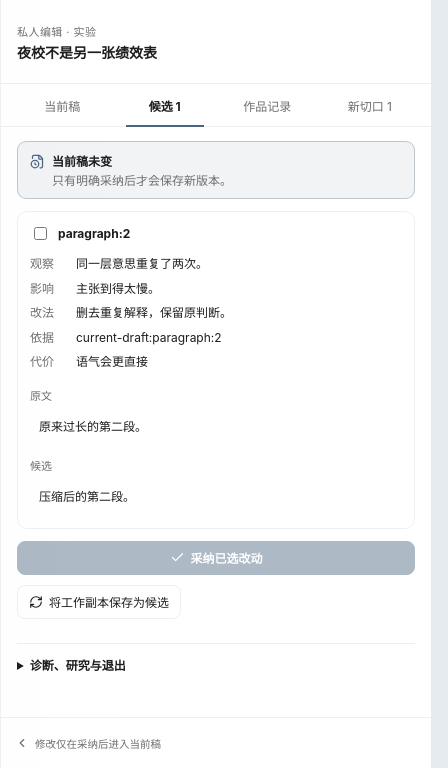
Test: PrivateEditorPanel › develops an accepted angle through the existing chat without changing the current draft
The width and height of the screenshot is (448, 768).
Check: the text "当前稿未变" is shown, box [52,154,112,169]
Click the button "新切口 1" at (370, 105), box [318,84,421,126]
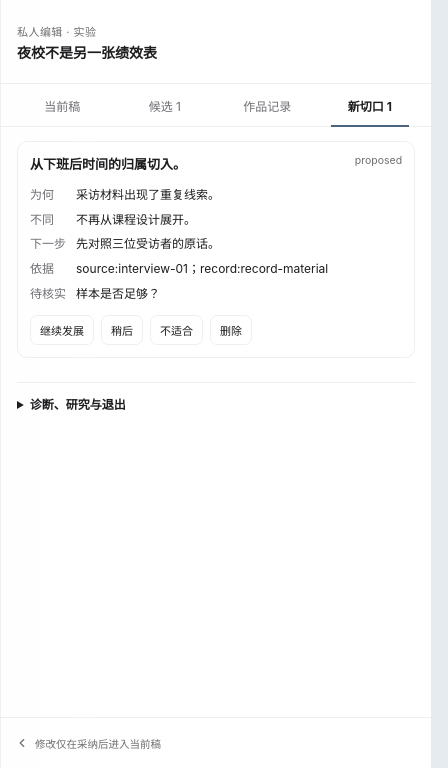
Click the button "继续发展" at (62, 330), box [30,315,94,345]
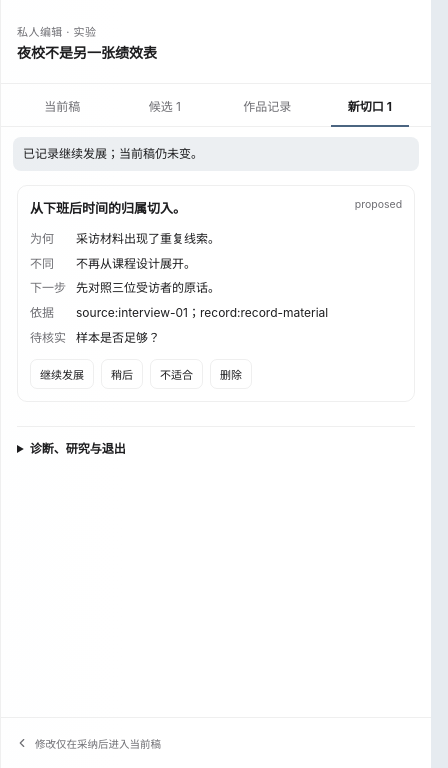
Check: the text "已记录继续发展；当前稿仍未变。" is shown, box [13,137,419,171]
